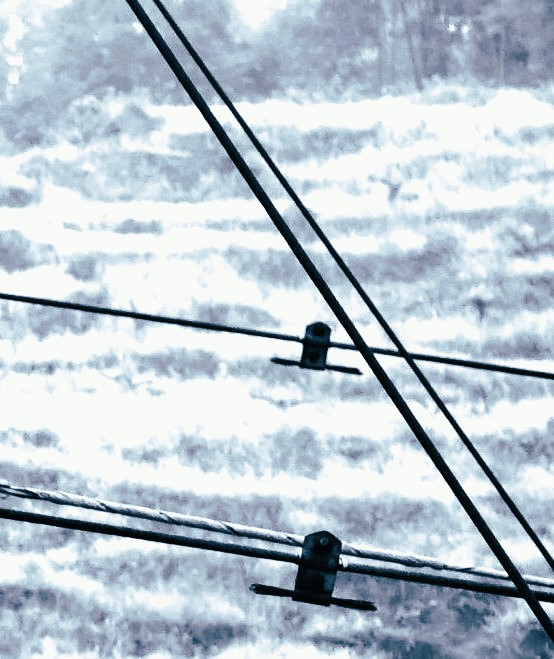Damage of shockproof hammer: (238, 520, 387, 627), (266, 316, 367, 395)
